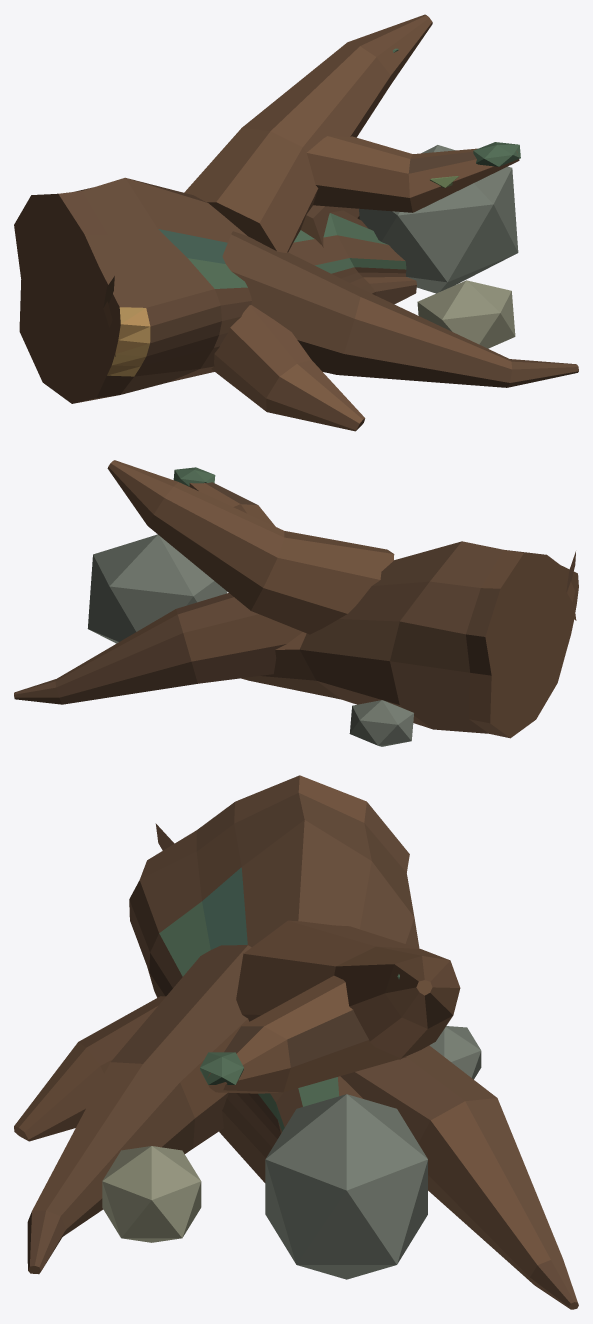
The model's file is rootfall-right.glb.
The picture shows the model from 3 angles, top to bottom: view 1: azimuth 30°, elevation 25°; view 2: azimuth 150°, elevation 25°; view 3: azimuth 270°, elevation 25°; orthographic projection. The views are drawn at different scales.
Visible parts, largest first — view 1: rootfall-right; view 2: rootfall-right; view 3: rootfall-right.
Boxes of the visible parts, left/top/right/bottom form: rootfall-right: left=14, top=14, right=578, bottom=431; rootfall-right: left=14, top=460, right=578, bottom=746; rootfall-right: left=14, top=775, right=578, bottom=1309.
Bounding box in the file's own units: 5.24 × 2.65 × 4.35.
Materials: 1 (1 with a texture image).
